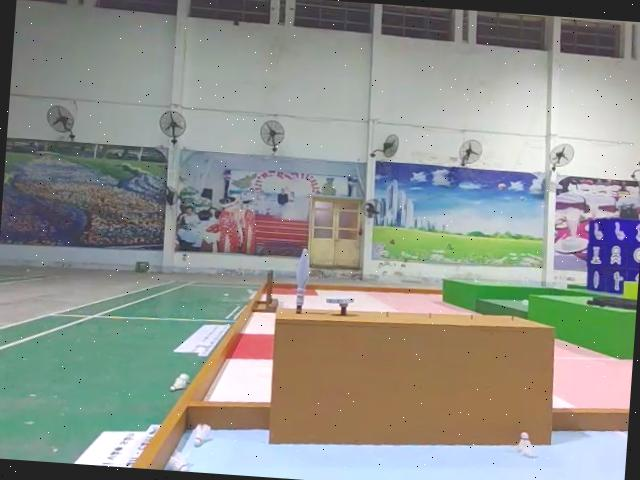Hand: (323, 294, 351, 318)
Sph: (291, 245, 312, 313)
